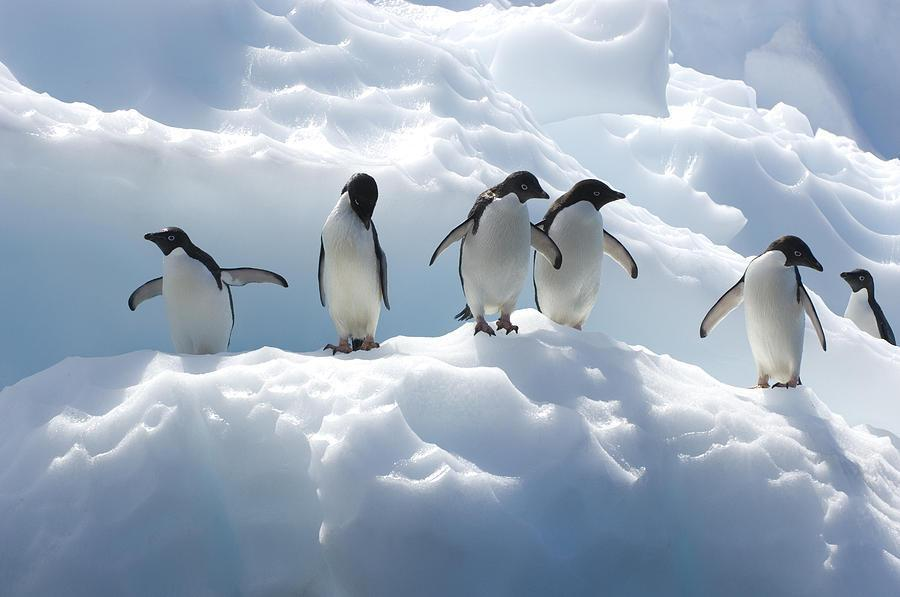Penguin: (429, 171, 562, 337), (127, 227, 288, 353), (699, 235, 826, 389), (533, 179, 638, 330), (318, 172, 389, 355), (840, 268, 896, 345)
